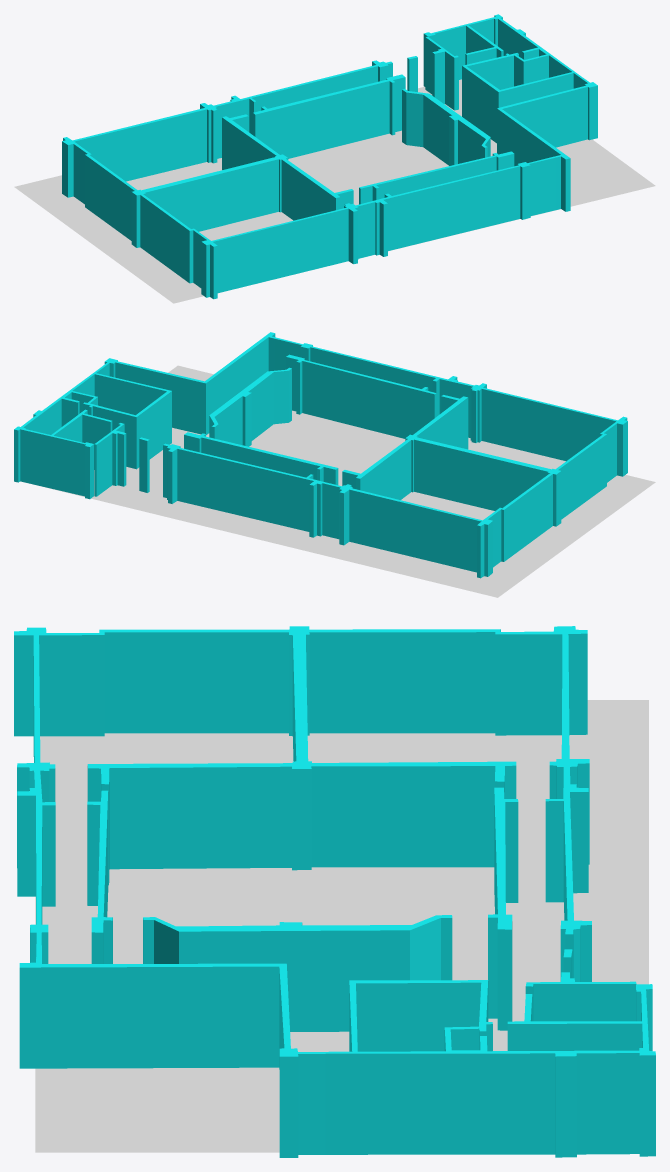
Rendered from Building 1-1 WallMap (1).fbx.
3 renders of one model, top to bottom at view 1: azimuth 30°, elevation 25°; view 2: azimuth 150°, elevation 25°; view 3: azimuth 270°, elevation 25°, orthographic. The views are drawn at different scales.
Visible parts, largest first — view 1: nodes_7, Plane, nodes_6, nodes_13, nodes_11, nodes_5, nodes_14, nodes_9, nodes_8, nodes_12, nodes_3, nodes_0 (+3 smaller); view 2: nodes_7, Plane, nodes_13, nodes_8, nodes_12, nodes_5, nodes_9, nodes_0, nodes_14, nodes_6, nodes_11, nodes_3 (+4 smaller); view 3: Plane, nodes_7, nodes_13, nodes_5, nodes_4, nodes_14, nodes_9, nodes_8, nodes_11, nodes_6, nodes_3, nodes_2 (+3 smaller).
Part boxes in pixels (<box>): nodes_7: <box>62,103,358,299</box>; Plane: <box>14,79,655,303</box>; nodes_6: <box>357,156,555,258</box>; nodes_13: <box>136,114,353,231</box>; nodes_11: <box>253,74,405,158</box>; nodes_5: <box>497,77,597,211</box>; nodes_14: <box>402,89,490,165</box>; nodes_9: <box>462,55,574,143</box>; nodes_8: <box>215,60,392,158</box>; nodes_12: <box>359,151,514,204</box>; nodes_3: <box>425,36,458,110</box>; nodes_0: <box>423,14,502,86</box>; nodes_7: <box>339,383,627,578</box>; Plane: <box>37,365,655,597</box>; nodes_13: <box>342,395,556,510</box>; nodes_8: <box>163,443,339,539</box>; nodes_12: <box>286,354,436,438</box>; nodes_5: <box>101,332,275,435</box>; nodes_9: <box>93,373,171,469</box>; nodes_0: <box>14,426,93,499</box>; nodes_14: <box>209,367,291,446</box>; nodes_6: <box>275,337,472,437</box>; nodes_11: <box>184,432,338,485</box>; nodes_3: <box>94,423,126,496</box>; Plane: <box>35,700,648,1152</box>; nodes_7: <box>14,626,589,867</box>; nodes_13: <box>87,630,516,885</box>; nodes_5: <box>19,958,325,1157</box>; nodes_4: <box>325,1050,643,1157</box>; nodes_14: <box>143,915,452,1031</box>; nodes_9: <box>349,980,488,1052</box>; nodes_8: <box>545,768,591,981</box>; nodes_11: <box>488,787,518,1030</box>; nodes_6: <box>17,772,55,963</box>; nodes_3: <box>525,972,636,1021</box>; nodes_2: <box>507,994,643,1050</box>.
Bounding box in the file's own units: 48.56 × 28.78 × 5.
